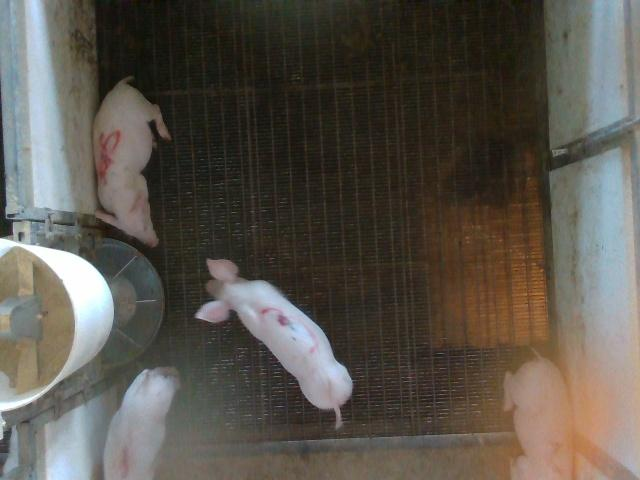pig-1: (104, 368, 180, 479)
pig-2: (504, 352, 571, 478)
pig-3: (195, 259, 352, 428)
pig-5: (92, 76, 170, 247)
